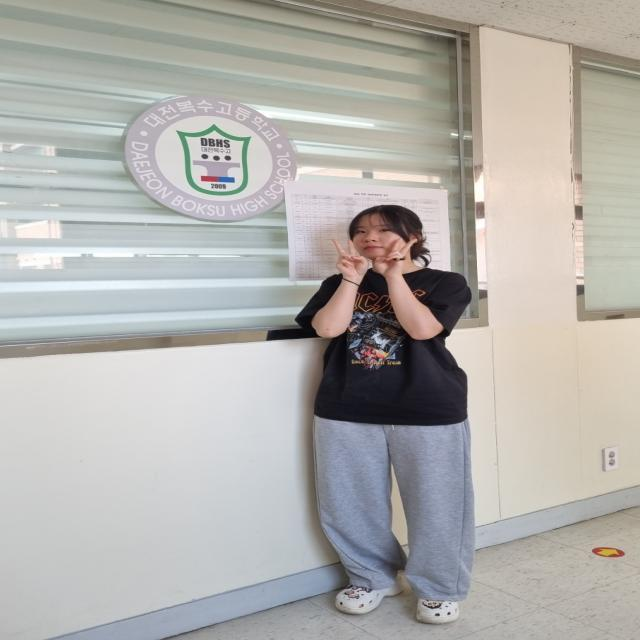logo: (120, 82, 306, 230)
